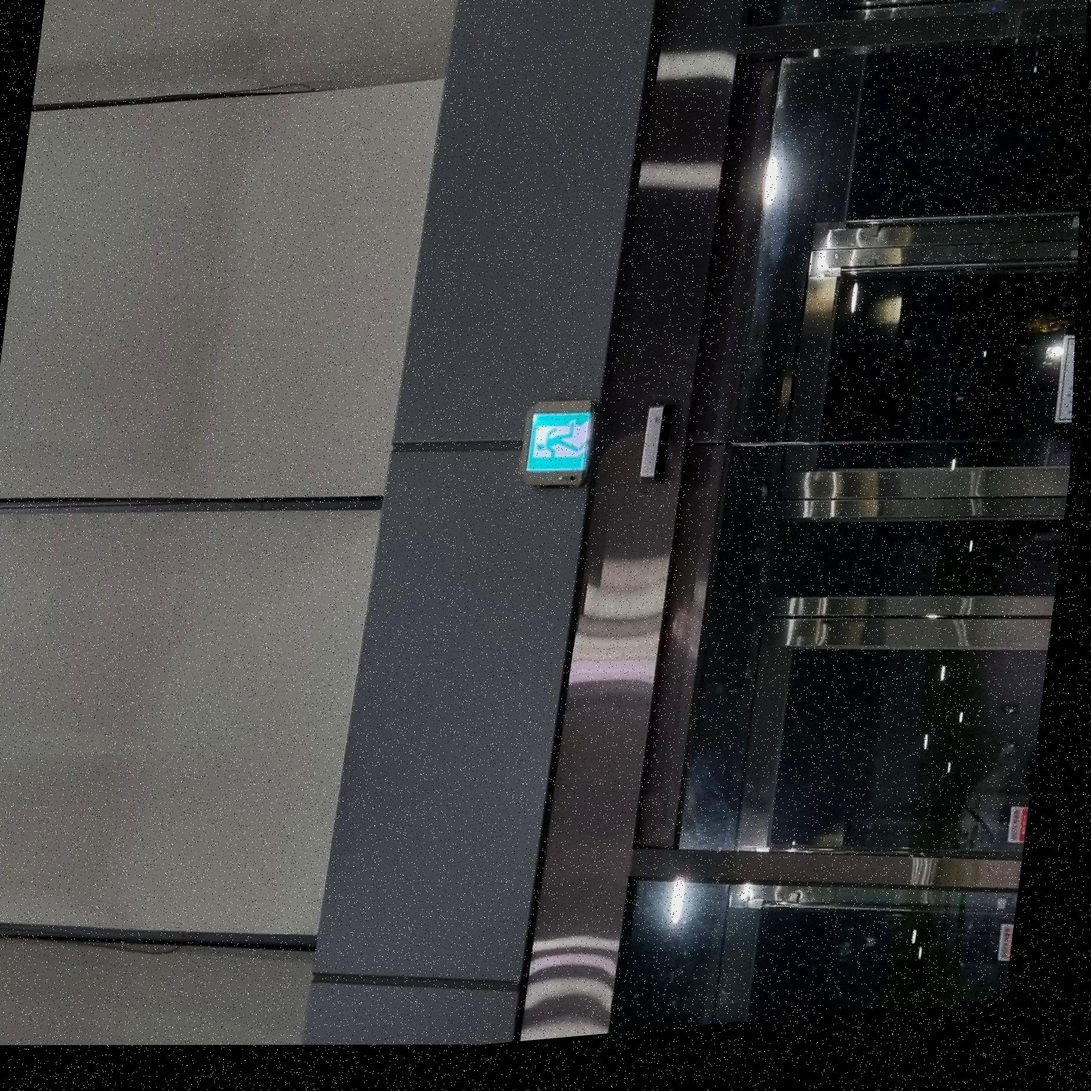emergency_exit: (519, 399, 595, 487)
